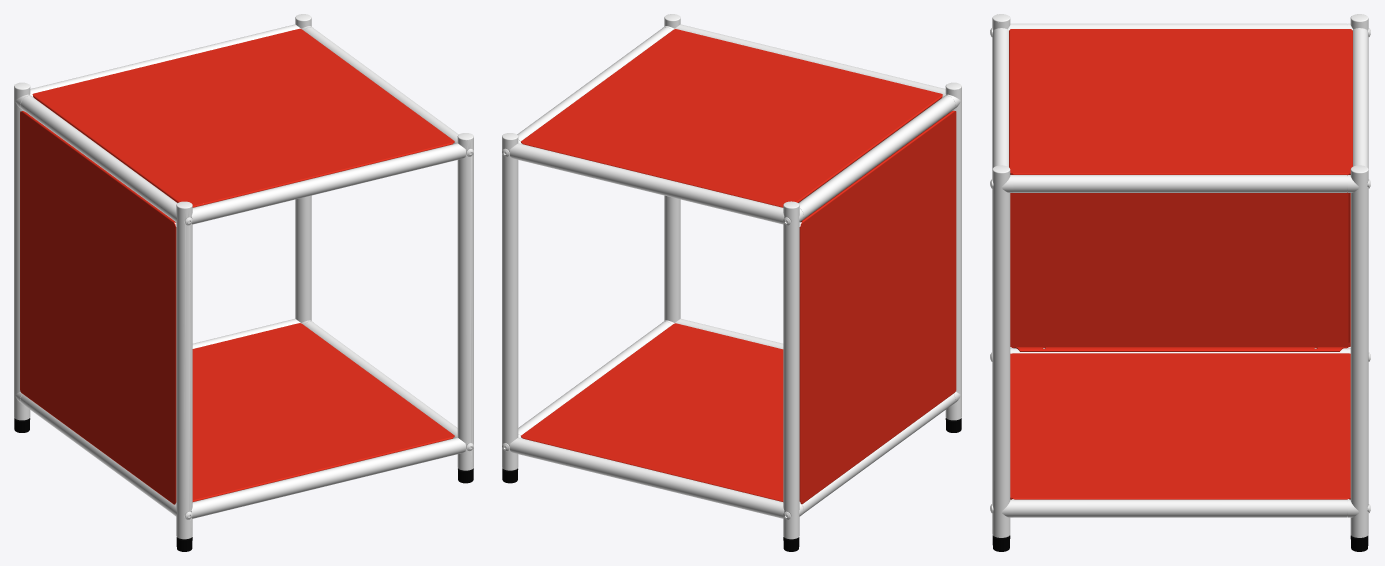
Rendered from 40x40x40-2-2-red_optimized_optimized.glb.
3 renders of one model, left to right at view 1: azimuth 30°, elevation 25°; view 2: azimuth 150°, elevation 25°; view 3: azimuth 270°, elevation 25°, orthographic. The views are drawn at different scales.
Visible parts, largest first — view 1: 直角鐵板-40x40-5 - 零件, 反-鐵管-40-354..4-1 - 零件, 圓形腳+調整器-1 - 零件; view 2: 直角鐵板-40x40-5 - 零件, 反-鐵管-40-354..4-1 - 零件, 圓形腳+調整器-1 - 零件; view 3: 直角鐵板-40x40-5 - 零件, 反-鐵管-40-354..4-1 - 零件, 圓形腳+調整器-1 - 零件.
Boxes of the visible parts, x1,y1,x2,y2 form: 直角鐵板-40x40-5 - 零件: [20, 28, 454, 504]; 反-鐵管-40-354..4-1 - 零件: [14, 14, 473, 539]; 圓形腳+調整器-1 - 零件: [14, 418, 473, 551]; 直角鐵板-40x40-5 - 零件: [521, 29, 956, 504]; 反-鐵管-40-354..4-1 - 零件: [502, 14, 961, 539]; 圓形腳+調整器-1 - 零件: [502, 418, 961, 551]; 直角鐵板-40x40-5 - 零件: [1009, 29, 1352, 499]; 反-鐵管-40-354..4-1 - 零件: [990, 14, 1370, 537]; 圓形腳+調整器-1 - 零件: [992, 535, 1368, 551].
Bounding box in the file's own units: 0.3992 × 0.4453 × 0.4035.
